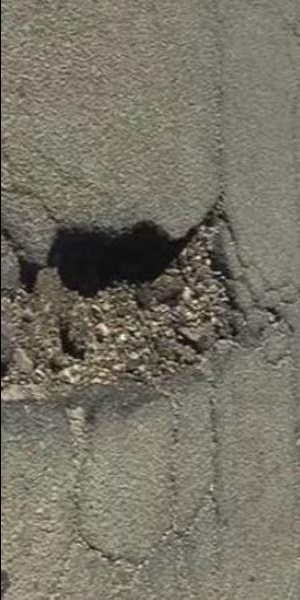pothole: (1, 190, 253, 410)
